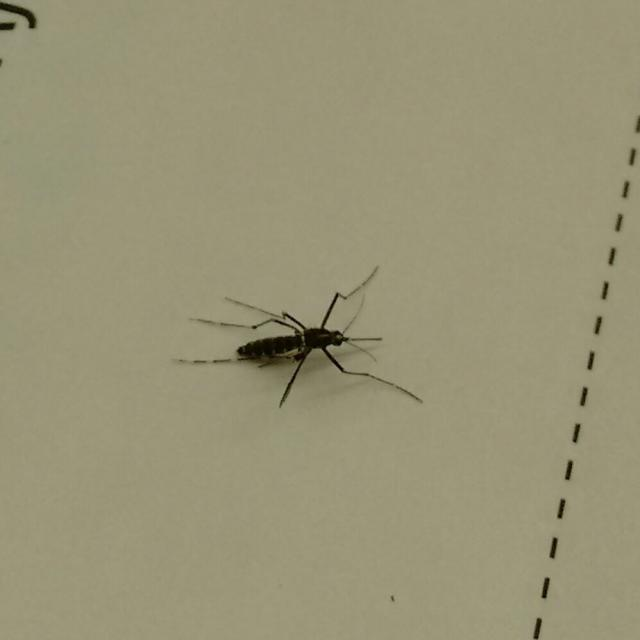albopictus: (167, 257, 425, 418)
